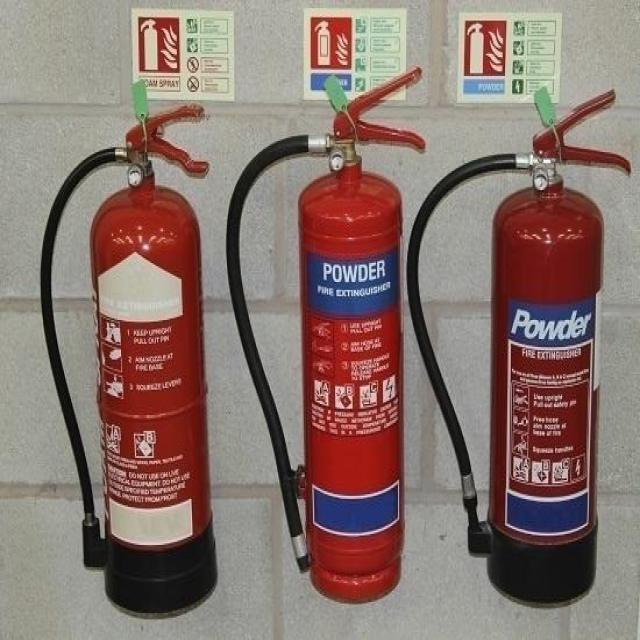fire_extinguisher: (402, 80, 636, 612), (222, 60, 427, 607), (35, 96, 221, 618)
